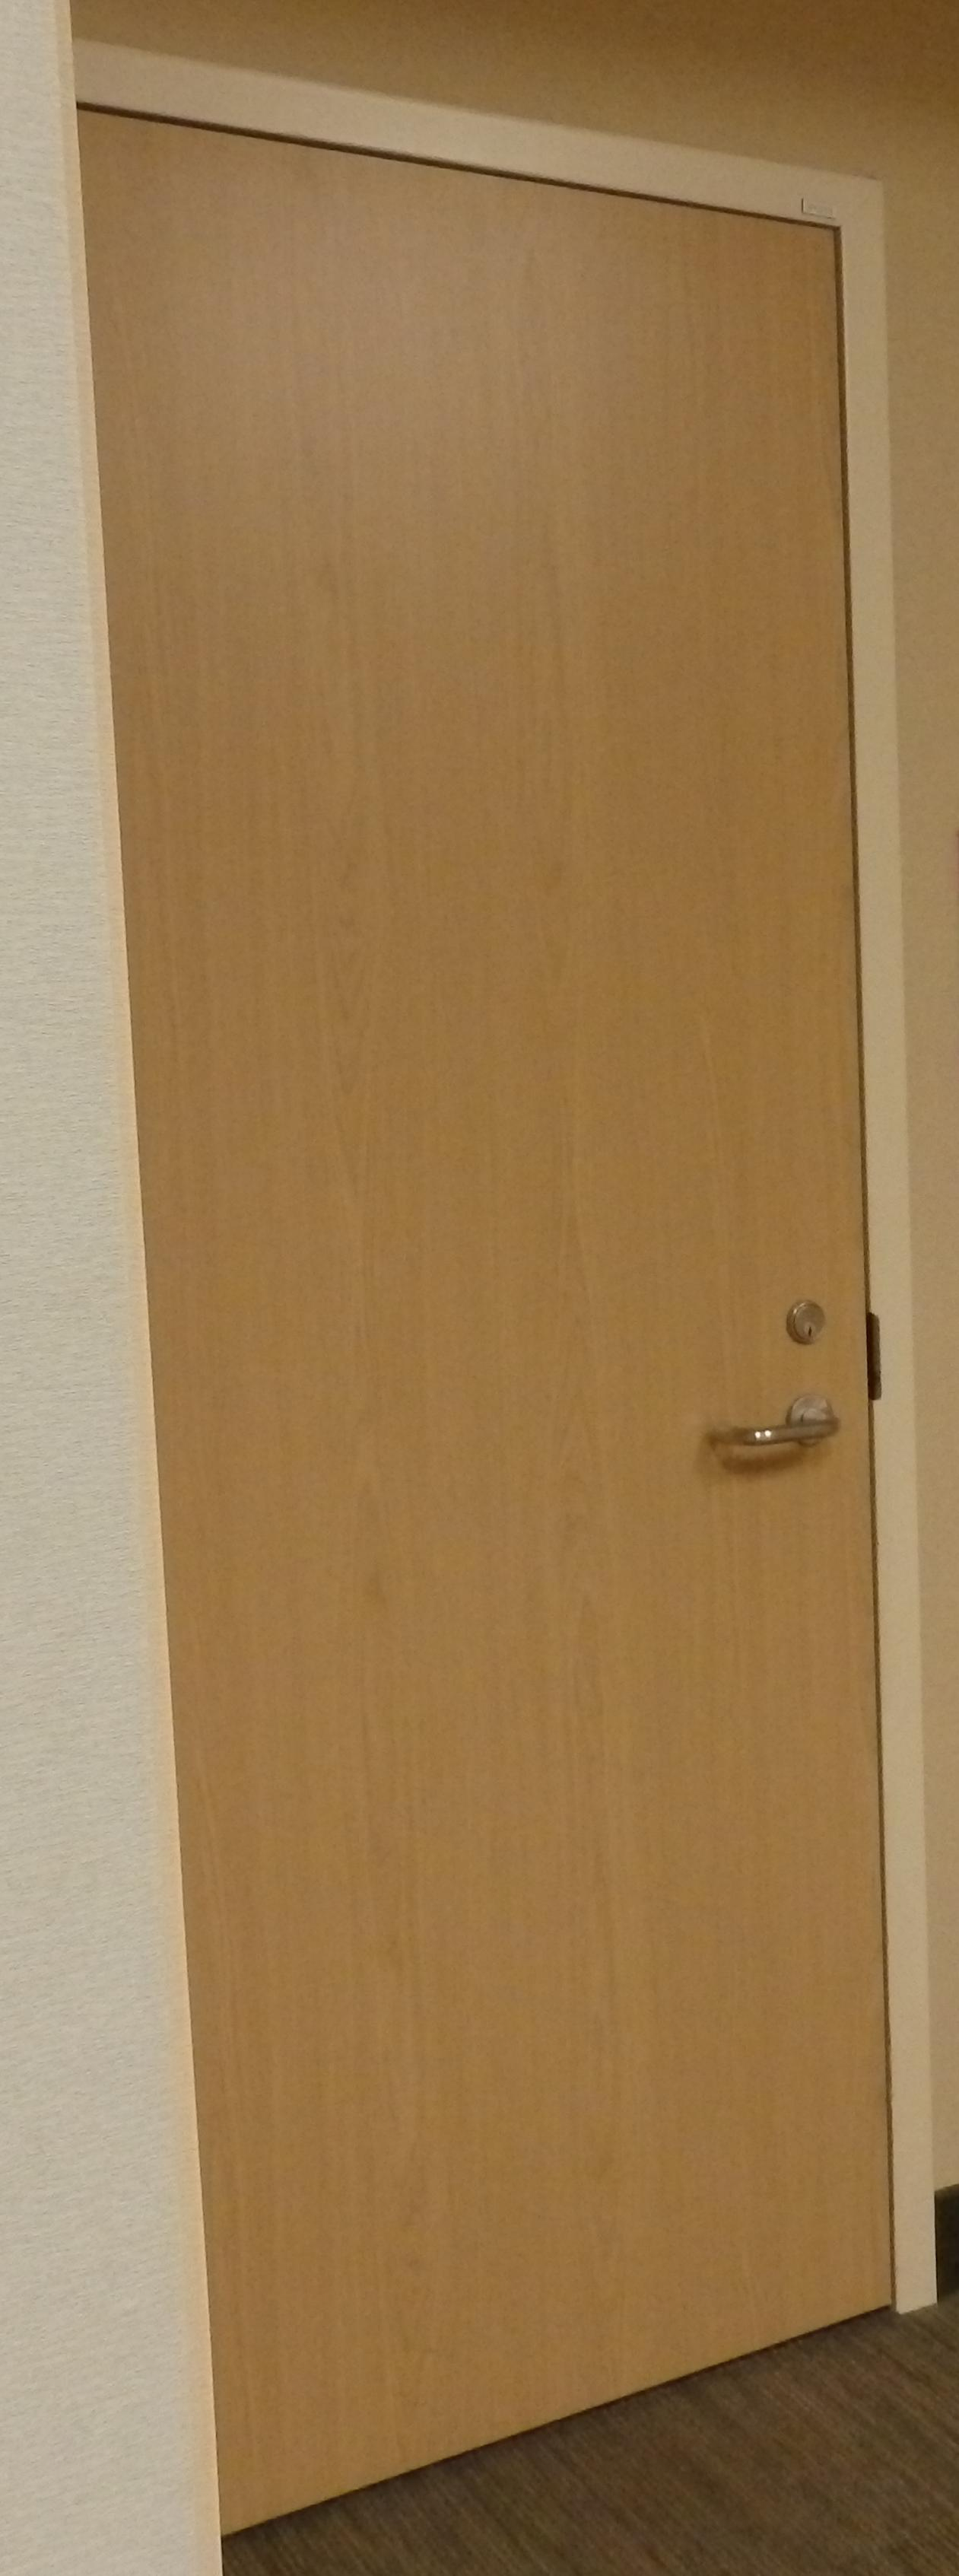door: (74, 92, 905, 2497)
